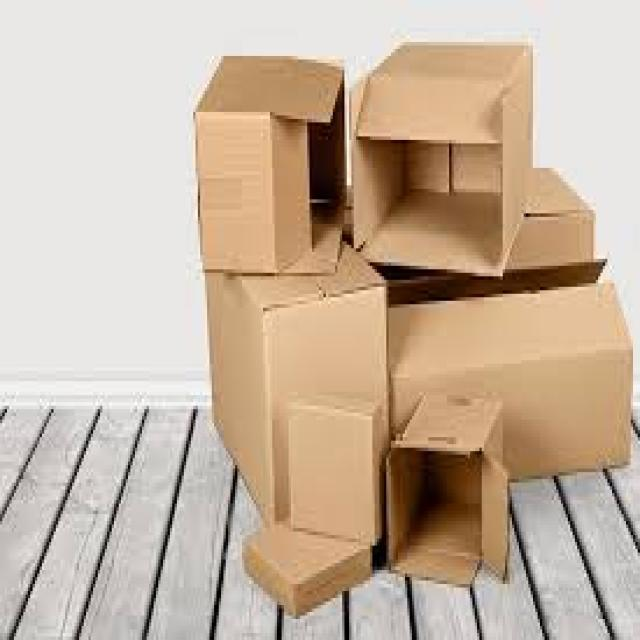Vidrio: (390, 355, 634, 498), (262, 283, 396, 535)
